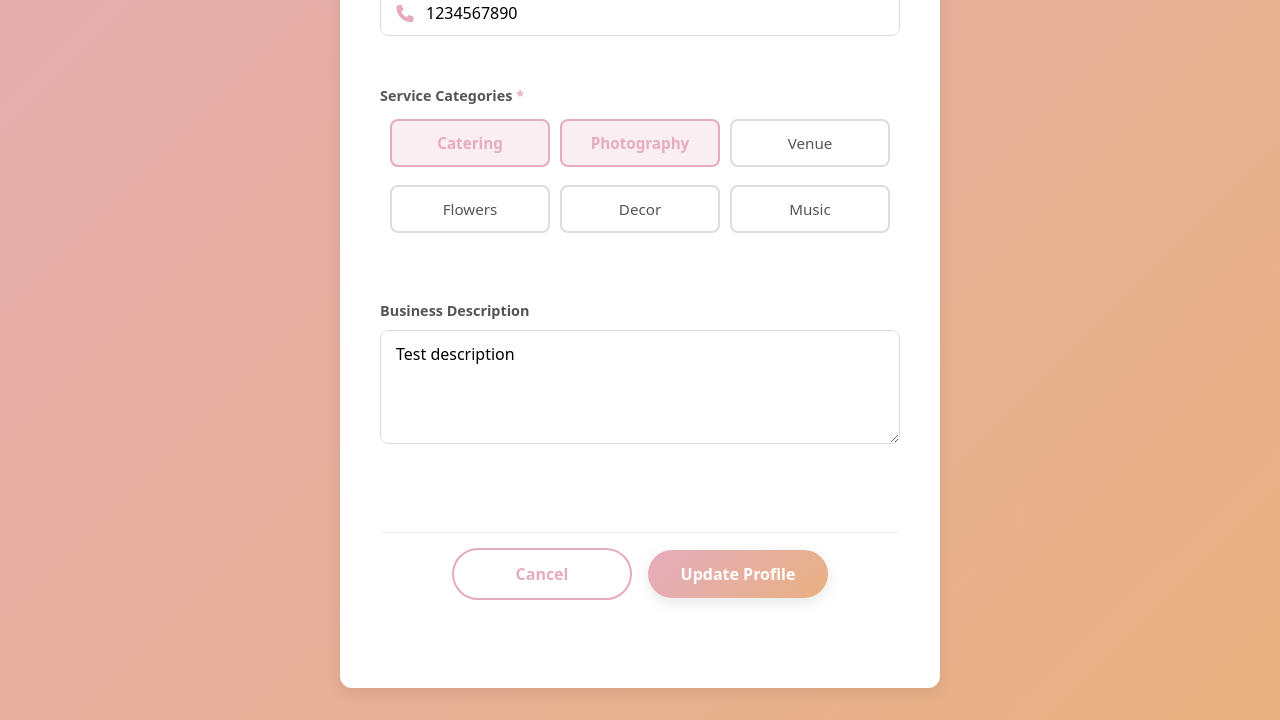
Test: EditVendorProfile Testing › handles form submission with existing vendor update
(page scrolled)
Click the button "Update Profile" at (738, 574), box [648,550,828,598]
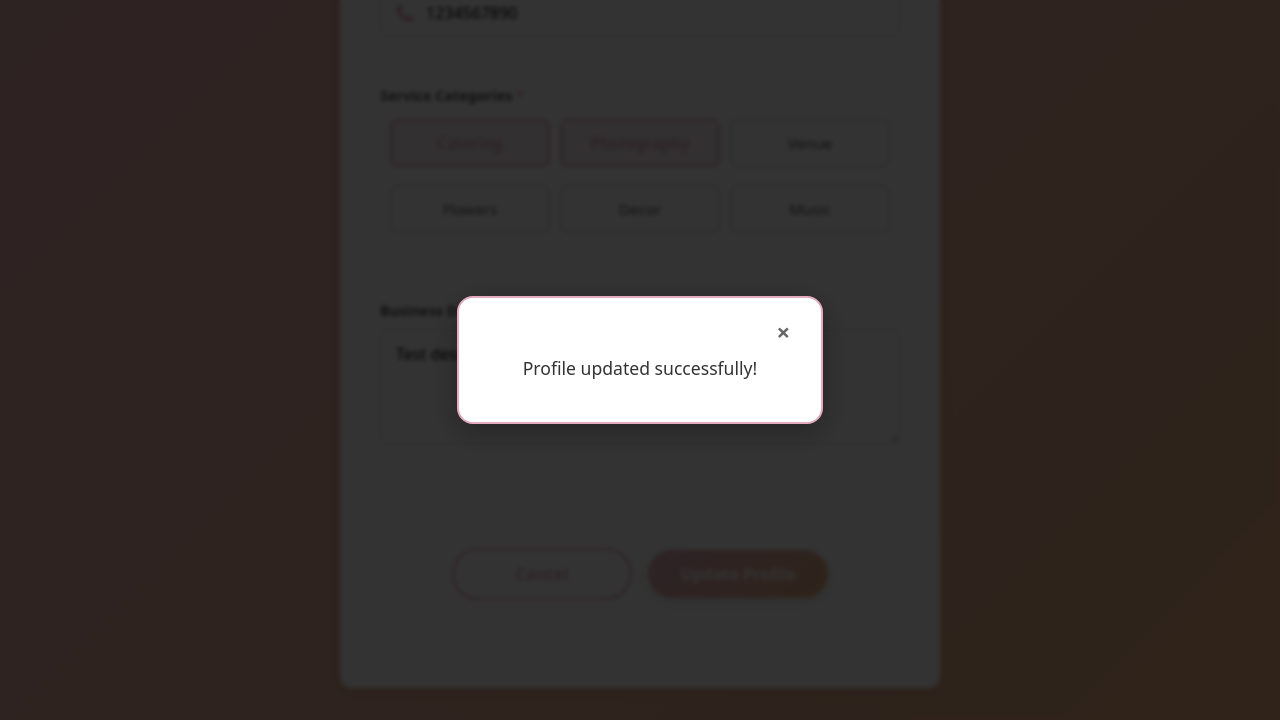
Check: the text "Profile updated successfully!" is shown, box [507,354,773,382]
